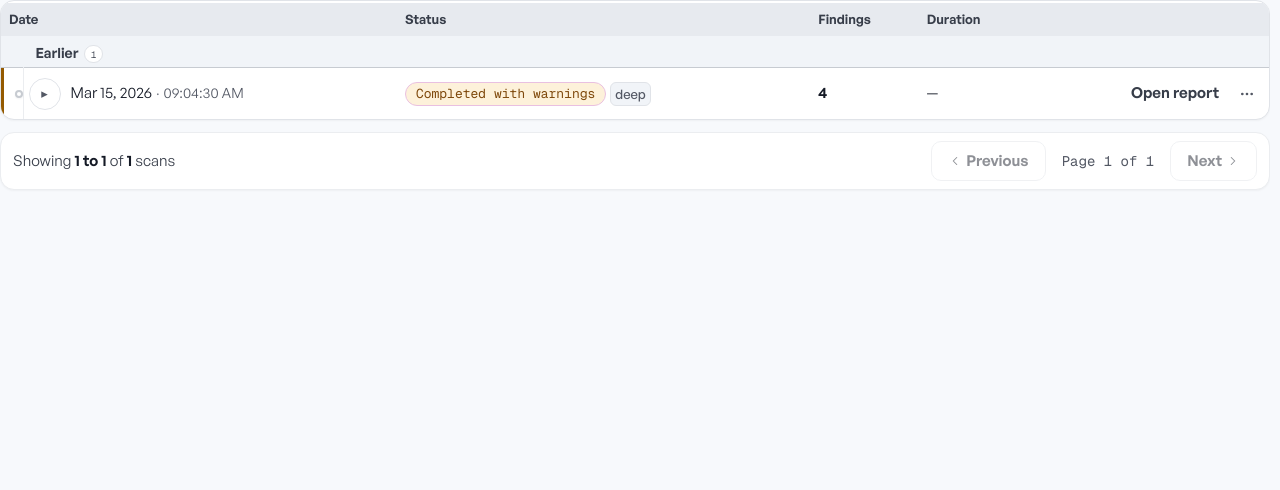
Test: HistoryTable expandable rows › explains discovery coverage from the snapshot: selected vs candidate, skip reasons, exclusions
Click the button with class "history-disclose" at {"x": 45, "y": 94}, box [29,78,61,110]
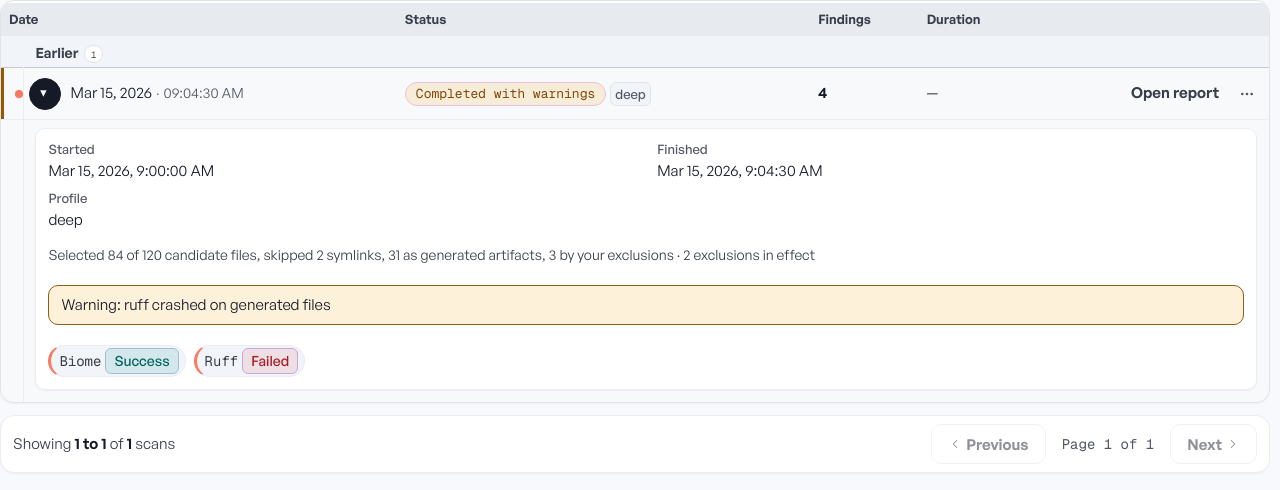
Expected: the text with class "history-coverage" shows "Selected 84 of 120 candidate files", [48,246,815,263]
Expected: the text with class "history-coverage" shows "2 symlinks", [316,246,674,263]
Expected: the text with class "history-coverage" shows "31 as generated artifacts", [316,246,674,263]
